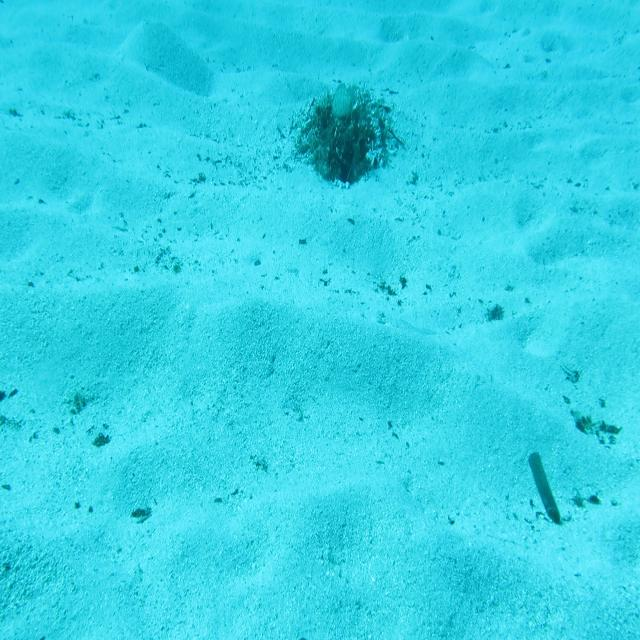INS: (326, 77, 358, 137)
nest: (294, 88, 408, 192)
vegetation: (528, 448, 564, 532), (571, 401, 621, 447), (480, 298, 509, 329)
